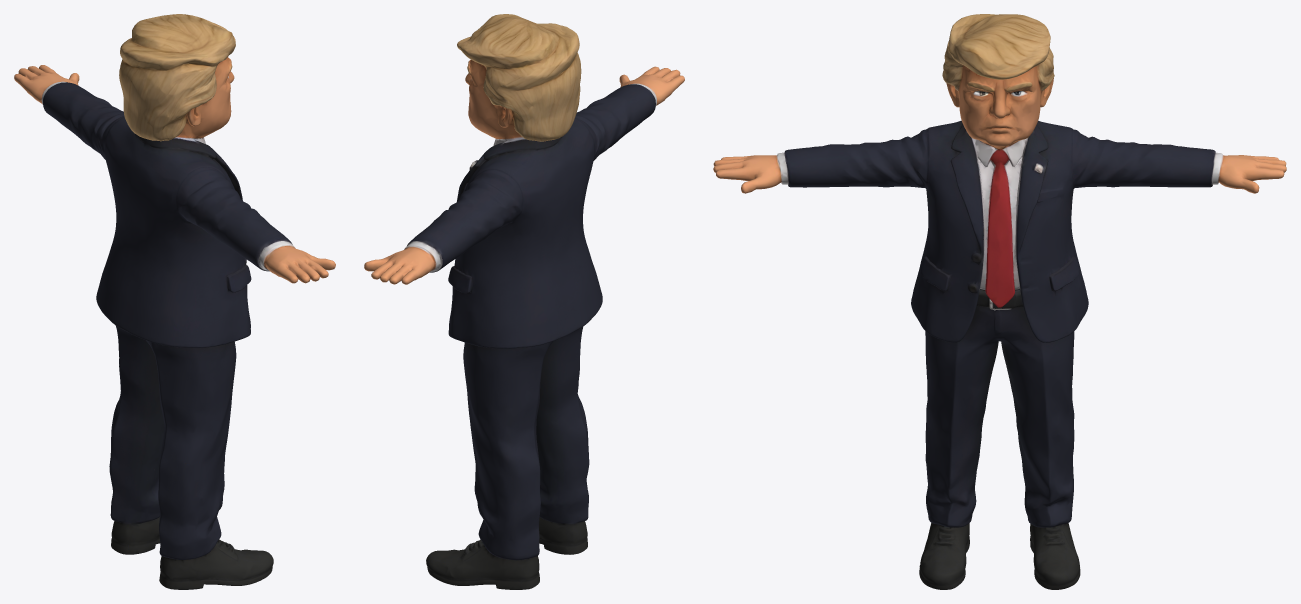
The model's file is donald-trump.glb.
3 renders of one model, left to right at view 1: azimuth 30°, elevation 25°; view 2: azimuth 150°, elevation 25°; view 3: azimuth 270°, elevation 25°, orthographic.
Visible parts, largest first — view 1: tripo_node_477399fa-a1c8-4fb9-b3b3-2fe317f4a5d8; view 2: tripo_node_477399fa-a1c8-4fb9-b3b3-2fe317f4a5d8; view 3: tripo_node_477399fa-a1c8-4fb9-b3b3-2fe317f4a5d8.
Boxes of the visible parts, box(x1,y1,x2,y2) form: tripo_node_477399fa-a1c8-4fb9-b3b3-2fe317f4a5d8: box(14, 14, 335, 589); tripo_node_477399fa-a1c8-4fb9-b3b3-2fe317f4a5d8: box(364, 14, 684, 589); tripo_node_477399fa-a1c8-4fb9-b3b3-2fe317f4a5d8: box(713, 14, 1286, 589).
Size of the model in its own units: 0.2491 by 1 by 0.9643.
1 material, 1 textured.
